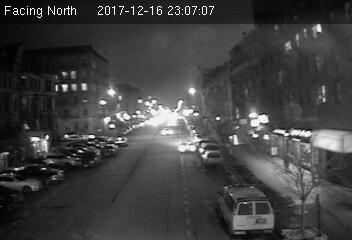car: (201, 150, 223, 166), (177, 141, 198, 156), (160, 127, 176, 138)
police: (218, 183, 277, 232)
